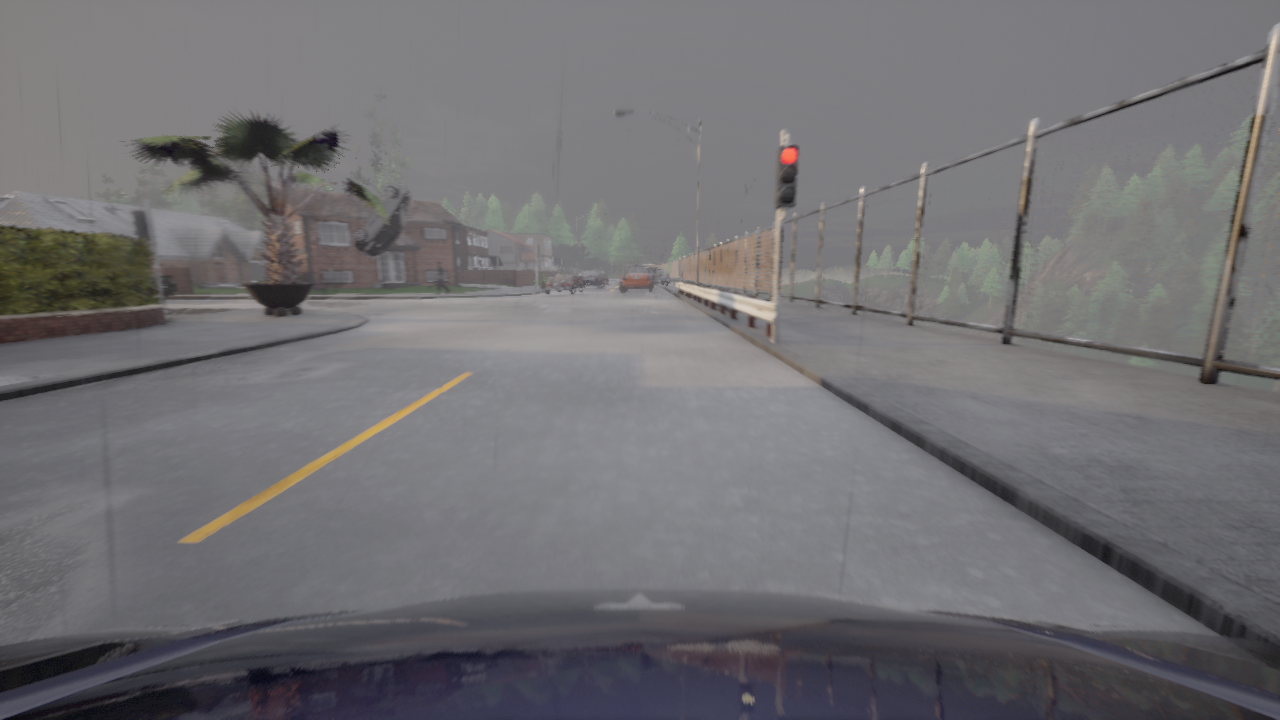cyclist: (0, 588, 1279, 719), (352, 182, 412, 256), (545, 267, 584, 294), (621, 266, 653, 291), (154, 275, 176, 298), (647, 267, 671, 287), (582, 270, 605, 288), (600, 270, 607, 284)
pedestrian: (435, 260, 449, 293), (154, 260, 169, 275)
